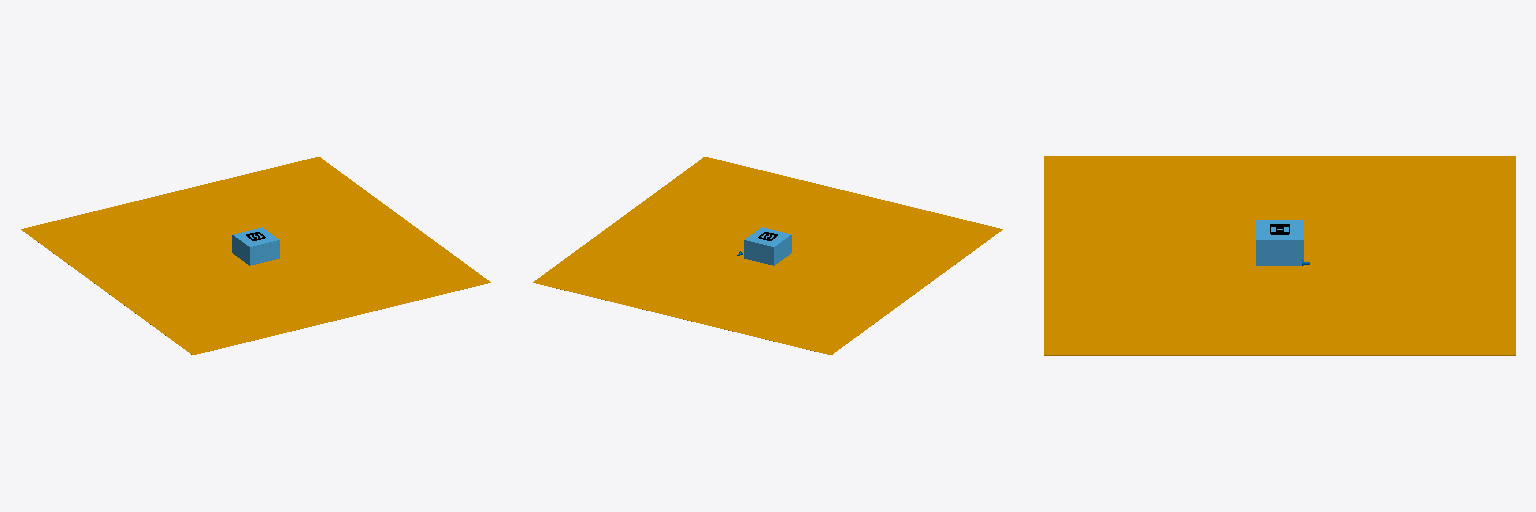
The robot description file, URDF, robot "ur5e":
<?xml version="1.0" encoding="utf-8"?>
<!-- =================================================================================== -->
<!-- |    This document was autogenerated by xacro from ur5e_robot.urdf.xacro          | -->
<!-- |    EDITING THIS FILE BY HAND IS NOT RECOMMENDED                                 | -->
<!-- =================================================================================== -->
<robot name="ur5e" xmlns:xacro="http://ros.org/wiki/xacro">

  <material name="black">
    <color rgba="0 0 0 1"/>
  </material>
  <material name="gray">
    <color rgba="0.1 0.1 0.1 1"/>
  </material>
  <material name="lightgray">
    <color rgba="0.8 0.8 0.8 1"/>
  </material>

  <link name="ground">
        <origin rpy="0.0 0.0 0.0" xyz="0 0 0.00"/>
        <visual>
            <!-- <origin rpy="0.0 0.0 0.0" xyz="0.0 0.0 0.0"/> -->
            <geometry>
                <box size="5 5 0.001"/>
            </geometry>
        </visual>
        <collision>
            <!-- <origin rpy="0.0 0.0 0.0" xyz="0.0 0.0 0.0"/> -->
            <geometry>
                <box size="5 5 0.001"/>
            </geometry>
        </collision>
   </link>

   <!-- Table -->
   <joint name="table_ground" type="fixed">
        <parent link="ground"/>
        <child link="table"/>
        <origin rpy="0 0 0" xyz="0.0 0.0 0.15"/>
   </joint>
   <link name="table">
    <visual>
      <origin xyz="0 0 0"/>
      <geometry>
        <box size="0.5 0.5 0.3"/>
      </geometry>
    </visual>
    <collision>
      <origin xyz="0 0 0"/>
      <geometry>
        <box size="0.5 0.5 0.3"/>
      </geometry>
    </collision>
    <inertial>
      <mass value="1000.0"/>
      <inertia ixx="0.01" ixy="0.00" ixz="0.00" iyy="0.01" iyz="0.0" izz="0.01"/>
      <!-- inertia is recomputed when loading asset  -->
    </inertial>
  </link>


  <link name="obs_l1">
    <visual>
      <origin rpy="0.0 0.0 0.0" xyz="0.0 0.0 0.0"/>
      <geometry>
        <box size="0.01 0.08 0.05"/>
      </geometry>
      <material name="">
        <color rgba="0 0 0 1"/>
      </material>
    </visual>
    <collision>
      <origin rpy="0.0 0.0 0.0" xyz="0.0 0.0 0.0"/>
      <geometry>
        <box size="0.01 0.08 0.05"/>
      </geometry>
    </collision>
    <inertial>
      <mass value="10000"/>
      <inertia ixx="100" ixy="0" ixz="0" iyy="100" iyz="0" izz="100"/>
    </inertial>
  </link>
  <joint name="base_to_obs_l1" type="fixed">
    <parent link="table"/>
    <child link="obs_l1"/>
    <origin xyz="-0.04 0.0 0.15"/>
  </joint>
  <link name="obs_l2">
    <visual>
      <origin rpy="0.0 0.0 0.0" xyz="0.0 0.0 0.0"/>
      <geometry>
        <box size="0.03 0.01 0.05"/>
      </geometry>
      <material name="">
        <color rgba="0 0 0 1"/>
      </material>
    </visual>
    <collision>
      <origin rpy="0.0 0.0 0.0" xyz="0.0 0.0 0.0"/>
      <geometry>
        <box size="0.03 0.01 0.05"/>
      </geometry>
    </collision>
    <inertial>
      <mass value="10000"/>
      <inertia ixx="100" ixy="0" ixz="0" iyy="100" iyz="0" izz="100"/>
    </inertial>
  </link>
  <joint name="base_to_obs_l2" type="fixed">
    <parent link="table"/>
    <child link="obs_l2"/>
    <origin xyz="-0.025 0.04 0.15"/>
  </joint>
  <link name="obs_l3">
    <visual>
      <origin rpy="0.0 0.0 0.0" xyz="0.0 0.0 0.0"/>
      <geometry>
        <box size="0.03 0.01 0.05"/>
      </geometry>
      <material name="">
        <color rgba="0 0 0 1"/>
      </material>
    </visual>
    <collision>
      <origin rpy="0.0 0.0 0.0" xyz="0.0 0.0 0.0"/>
      <geometry>
        <box size="0.03 0.01 0.05"/>
      </geometry>
    </collision>
    <inertial>
      <mass value="10000"/>
      <inertia ixx="100" ixy="0" ixz="0" iyy="100" iyz="0" izz="100"/>
    </inertial>
  </link>
  <joint name="base_to_obs_l3" type="fixed">
    <parent link="table"/>
    <child link="obs_l3"/>
    <origin xyz="-0.025 -0.04 0.15"/>
  </joint>
  <link name="obs_r1">
    <visual>
      <origin rpy="0.0 0.0 0.0" xyz="0.0 0.0 0.0"/>
      <geometry>
        <box size="0.01 0.08 0.05"/>
      </geometry>
      <material name="">
        <color rgba="0 0 0 1"/>
      </material>
    </visual>
    <collision>
      <origin rpy="0.0 0.0 0.0" xyz="0.0 0.0 0.0"/>
      <geometry>
        <box size="0.01 0.08 0.05"/>
      </geometry>
    </collision>
    <inertial>
      <mass value="10000"/>
      <inertia ixx="100" ixy="0" ixz="0" iyy="100" iyz="0" izz="100"/>
    </inertial>
  </link>
  <joint name="base_to_obs_r1" type="fixed">
    <parent link="table"/>
    <child link="obs_r1"/>
    <origin xyz="0.04 0.0 0.15"/>
  </joint>
  <link name="obs_r2">
    <visual>
      <origin rpy="0.0 0.0 0.0" xyz="0.0 0.0 0.0"/>
      <geometry>
        <box size="0.03 0.01 0.05"/>
      </geometry>
      <material name="">
        <color rgba="0 0 0 1"/>
      </material>
    </visual>
    <collision>
      <origin rpy="0.0 0.0 0.0" xyz="0.0 0.0 0.0"/>
      <geometry>
        <box size="0.03 0.01 0.05"/>
      </geometry>
    </collision>
    <inertial>
      <mass value="10000"/>
      <inertia ixx="100" ixy="0" ixz="0" iyy="100" iyz="0" izz="100"/>
    </inertial>
  </link>
  <joint name="base_to_obs_r2" type="fixed">
    <parent link="table"/>
    <child link="obs_r2"/>
    <origin xyz="0.025 0.04 0.15"/>
  </joint>
  <link name="obs_r3">
    <visual>
      <origin rpy="0.0 0.0 0.0" xyz="0.0 0.0 0.0"/>
      <geometry>
        <box size="0.03 0.01 0.05"/>
      </geometry>
      <material name="">
        <color rgba="0 0 0 1"/>
      </material>
    </visual>
    <collision>
      <origin rpy="0.0 0.0 0.0" xyz="0.0 0.0 0.0"/>
      <geometry>
        <box size="0.03 0.01 0.05"/>
      </geometry>
    </collision>
    <inertial>
      <mass value="10000"/>
      <inertia ixx="100" ixy="0" ixz="0" iyy="100" iyz="0" izz="100"/>
    </inertial>
  </link>
  <joint name="base_to_obs_r3" type="fixed">
    <parent link="table"/>
    <child link="obs_r3"/>
    <origin xyz="0.025 -0.04 0.15"/>
  </joint>
  <!--   <xacro:obs name="t1" l="1.4" b="0.1" x="0.0" y="0.7"/>-->
  <!--   <xacro:obs name="t2" l="0.1" b="0.5" x="-0.7" y="${0.7-0.25}"/>-->
  <!--   <xacro:obs name="t3" l="0.1" b="0.5" x="0.7" y="${0.7-0.25}"/>-->
  <!--   <xacro:obs name="b1" l="1.4" b="0.1" x="0.0" y="-0.7"/>-->
  <!--   <xacro:obs name="b2" l="0.1" b="0.5" x="-0.7" y="${-0.7+0.25}"/>-->
  <!--   <xacro:obs name="b3" l="0.1" b="0.5" x="0.7" y="${-0.7+0.25}"/>-->
  <link name="obs_w1">
    <visual>
      <origin rpy="0.0 0.0 0.0" xyz="0.0 0.0 0.0"/>
      <geometry>
        <box size="0.2 0.01 0.05"/>
      </geometry>
      <material name="">
        <color rgba="0 0 0 1"/>
      </material>
    </visual>
    <collision>
      <origin rpy="0.0 0.0 0.0" xyz="0.0 0.0 0.0"/>
      <geometry>
        <box size="0.2 0.01 0.05"/>
      </geometry>
    </collision>
    <inertial>
      <mass value="10000"/>
      <inertia ixx="100" ixy="0" ixz="0" iyy="100" iyz="0" izz="100"/>
    </inertial>
  </link>
  <joint name="base_to_obs_w1" type="fixed">
    <parent link="table"/>
    <child link="obs_w1"/>
    <origin xyz="0 0.1 0.15"/>
  </joint>
  <link name="obs_w2">
    <visual>
      <origin rpy="0.0 0.0 0.0" xyz="0.0 0.0 0.0"/>
      <geometry>
        <box size="0.2 0.01 0.05"/>
      </geometry>
      <material name="">
        <color rgba="0 0 0 1"/>
      </material>
    </visual>
    <collision>
      <origin rpy="0.0 0.0 0.0" xyz="0.0 0.0 0.0"/>
      <geometry>
        <box size="0.2 0.01 0.05"/>
      </geometry>
    </collision>
    <inertial>
      <mass value="10000"/>
      <inertia ixx="100" ixy="0" ixz="0" iyy="100" iyz="0" izz="100"/>
    </inertial>
  </link>
  <joint name="base_to_obs_w2" type="fixed">
    <parent link="table"/>
    <child link="obs_w2"/>
    <origin xyz="0 -0.1 0.15"/>
  </joint>
  <link name="obs_w3">
    <visual>
      <origin rpy="0.0 0.0 0.0" xyz="0.0 0.0 0.0"/>
      <geometry>
        <box size="0.01 0.2 0.05"/>
      </geometry>
      <material name="">
        <color rgba="0 0 0 1"/>
      </material>
    </visual>
    <collision>
      <origin rpy="0.0 0.0 0.0" xyz="0.0 0.0 0.0"/>
      <geometry>
        <box size="0.01 0.2 0.05"/>
      </geometry>
    </collision>
    <inertial>
      <mass value="10000"/>
      <inertia ixx="100" ixy="0" ixz="0" iyy="100" iyz="0" izz="100"/>
    </inertial>
  </link>
  <joint name="base_to_obs_w3" type="fixed">
    <parent link="table"/>
    <child link="obs_w3"/>
    <origin xyz="-0.1 0.0 0.15"/>
  </joint>
  <link name="obs_w4">
    <visual>
      <origin rpy="0.0 0.0 0.0" xyz="0.0 0.0 0.0"/>
      <geometry>
        <box size="0.01 0.2 0.05"/>
      </geometry>
      <material name="">
        <color rgba="0 0 0 1"/>
      </material>
    </visual>
    <collision>
      <origin rpy="0.0 0.0 0.0" xyz="0.0 0.0 0.0"/>
      <geometry>
        <box size="0.01 0.2 0.05"/>
      </geometry>
    </collision>
    <inertial>
      <mass value="10000"/>
      <inertia ixx="100" ixy="0" ixz="0" iyy="100" iyz="0" izz="100"/>
    </inertial>
  </link>
  <joint name="base_to_obs_w4" type="fixed">
    <parent link="table"/>
    <child link="obs_w4"/>
    <origin xyz="0.1 0.0 0.15"/>
  </joint>


  <!-- Base Link -->
  <joint name="base_link_ground" type="fixed">
        <parent link="ground"/>
        <child link="base_link"/>
        <origin rpy="0 0 0" xyz="-0.5 0.0 0"/>
  </joint>
  <link name="base_link">
    <visual>
      <geometry>
        <mesh filename="package://robot/urdf/meshes/ur5e/visual/base.dae"/>
      </geometry>
      <material name="LightGrey">
        <color rgba="0.7 0.7 0.7 1.0"/>
      </material>
    </visual>
    <collision>
      <geometry>
        <mesh filename="package://robot/urdf/meshes/ur5e/collision/base.stl" scale="1.0 1.0 1.0"/>
      </geometry>
    </collision>
    <inertial>
      <mass value="4.0"/>
      <origin rpy="0 0 0" xyz="0.0 0.0 0.0"/>
      <inertia ixx="0.00443333156" ixy="0.0" ixz="0.0" iyy="0.00443333156" iyz="0.0" izz="0.0072"/>
    </inertial>
  </link>
  <joint name="shoulder_pan_joint" type="revolute">
    <parent link="base_link"/>
    <child link="shoulder_link"/>
    <origin rpy="0.0 0.0 0.0" xyz="0.0 0.0 0.163"/>
    <axis xyz="0 0 1"/>
    <limit effort="150.0" lower="-6.28318530718" upper="6.28318530718" velocity="3.14"/>
    <dynamics damping="0.0" friction="0.0"/>
  </joint>
  <link name="shoulder_link">
    <visual>
      <geometry>
        <mesh filename="package://robot/urdf/meshes/ur5e/visual/shoulder.dae"/>
      </geometry>
      <material name="LightGrey">
        <color rgba="0.7 0.7 0.7 1.0"/>
      </material>
    </visual>
    <collision>
      <geometry>
        <mesh filename="package://robot/urdf/meshes/ur5e/collision/shoulder.stl" scale="1.0 1.0 1.0"/>
      </geometry>
    </collision>
    <inertial>
      <mass value="3.7"/>
      <origin rpy="0 0 0" xyz="0.0 0.0 0.0"/>
      <inertia ixx="0.010267495893" ixy="0.0" ixz="0.0" iyy="0.010267495893" iyz="0.0" izz="0.00666"/>
    </inertial>
  </link>
  <joint name="shoulder_lift_joint" type="revolute">
    <parent link="shoulder_link"/>
    <child link="upper_arm_link"/>
    <origin rpy="0.0 1.57079632679 0.0" xyz="0.0 0.138 0.0"/>
    <axis xyz="0 1 0"/>
    <limit effort="150.0" lower="-6.28318530718" upper="6.28318530718" velocity="3.14"/>
    <dynamics damping="0.0" friction="0.0"/>
  </joint>
  <link name="upper_arm_link">
    <visual>
      <geometry>
        <mesh filename="package://robot/urdf/meshes/ur5e/visual/upperarm.dae"/>
      </geometry>
      <material name="LightGrey">
        <color rgba="0.7 0.7 0.7 1.0"/>
      </material>
    </visual>
    <collision>
      <geometry>
        <mesh filename="package://robot/urdf/meshes/ur5e/collision/upperarm.stl" scale="1.0 1.0 1.0"/>
      </geometry>
    </collision>
    <inertial>
      <mass value="8.393"/>
      <origin rpy="0 0 0" xyz="0.0 0.0 0.2125"/>
      <inertia ixx="0.133885781862" ixy="0.0" ixz="0.0" iyy="0.133885781862" iyz="0.0" izz="0.0151074"/>
    </inertial>
  </link>
  <joint name="elbow_joint" type="revolute">
    <parent link="upper_arm_link"/>
    <child link="forearm_link"/>
    <origin rpy="0.0 0.0 0.0" xyz="0.0 -0.131 0.425"/>
    <axis xyz="0 1 0"/>
    <limit effort="150.0" lower="-3.14159265359" upper="3.14159265359" velocity="3.14"/>
    <dynamics damping="0.0" friction="0.0"/>
  </joint>
  <link name="forearm_link">
    <visual>
      <geometry>
        <mesh filename="package://robot/urdf/meshes/ur5e/visual/forearm.dae"/>
      </geometry>
      <material name="LightGrey">
        <color rgba="0.7 0.7 0.7 1.0"/>
      </material>
    </visual>
    <collision>
      <geometry>
        <mesh filename="package://robot/urdf/meshes/ur5e/collision/forearm.stl" scale="1.0 1.0 1.0"/>
      </geometry>
    </collision>
    <inertial>
      <mass value="2.275"/>
      <origin rpy="0 0 0" xyz="0.0 0.0 0.196"/>
      <inertia ixx="0.0311796208615" ixy="0.0" ixz="0.0" iyy="0.0311796208615" iyz="0.0" izz="0.004095"/>
    </inertial>
  </link>
  <joint name="wrist_1_joint" type="revolute">
    <parent link="forearm_link"/>
    <child link="wrist_1_link"/>
    <origin rpy="0.0 1.57079632679 0.0" xyz="0.0 0.0 0.392"/>
    <axis xyz="0 1 0"/>
    <limit effort="28.0" lower="-6.28318530718" upper="6.28318530718" velocity="6.28"/>
    <dynamics damping="0.0" friction="0.0"/>
  </joint>
  <link name="wrist_1_link">
    <visual>
      <geometry>
        <mesh filename="package://robot/urdf/meshes/ur5e/visual/wrist1.dae"/>
      </geometry>
      <material name="LightGrey">
        <color rgba="0.7 0.7 0.7 1.0"/>
      </material>
    </visual>
    <collision>
      <geometry>
        <mesh filename="package://robot/urdf/meshes/ur5e/collision/wrist1.stl" scale="1.0 1.0 1.0"/>
      </geometry>
    </collision>
    <inertial>
      <mass value="1.219"/>
      <origin rpy="0 0 0" xyz="0.0 0.127 0.0"/>
      <inertia ixx="0.00255989897604" ixy="0.0" ixz="0.0" iyy="0.00255989897604" iyz="0.0" izz="0.0021942"/>
    </inertial>
  </link>
  <joint name="wrist_2_joint" type="revolute">
    <parent link="wrist_1_link"/>
    <child link="wrist_2_link"/>
    <origin rpy="0.0 0.0 0.0" xyz="0.0 0.127 0.0"/>
    <axis xyz="0 0 1"/>
    <limit effort="28.0" lower="-6.28318530718" upper="6.28318530718" velocity="6.28"/>
    <dynamics damping="0.0" friction="0.0"/>
  </joint>
  <link name="wrist_2_link">
    <visual>
      <geometry>
        <mesh filename="package://robot/urdf/meshes/ur5e/visual/wrist2.dae"/>
      </geometry>
      <material name="LightGrey">
        <color rgba="0.7 0.7 0.7 1.0"/>
      </material>
    </visual>
    <collision>
      <geometry>
        <mesh filename="package://robot/urdf/meshes/ur5e/collision/wrist2.stl" scale="1.0 1.0 1.0"/>
      </geometry>
    </collision>
    <inertial>
      <mass value="1.219"/>
      <origin rpy="0 0 0" xyz="0.0 0.0 0.1"/>
      <inertia ixx="0.00255989897604" ixy="0.0" ixz="0.0" iyy="0.00255989897604" iyz="0.0" izz="0.0021942"/>
    </inertial>
  </link>
  <joint name="wrist_3_joint" type="revolute">
    <parent link="wrist_2_link"/>
    <child link="wrist_3_link"/>
    <origin rpy="0.0 0.0 0.0" xyz="0.0 0.0 0.1"/>
    <axis xyz="0 1 0"/>
    <limit effort="28.0" lower="-6.28318530718" upper="6.28318530718" velocity="6.28"/>
    <dynamics damping="0.0" friction="0.0"/>
  </joint>
  <link name="wrist_3_link">
    <visual>
      <geometry>
        <mesh filename="package://robot/urdf/meshes/ur5e/visual/wrist3.dae"/>
      </geometry>
      <material name="LightGrey">
        <color rgba="0.7 0.7 0.7 1.0"/>
      </material>
    </visual>
    <collision>
      <geometry>
        <mesh filename="package://robot/urdf/meshes/ur5e/collision/wrist3.stl" scale="1.0 1.0 1.0"/>
      </geometry>
    </collision>
    <inertial>
      <mass value="0.1879"/>
      <origin rpy="1.57079632679 0 0" xyz="0.0 0.0771 0.0"/>
      <inertia ixx="9.89041005217e-05" ixy="0.0" ixz="0.0" iyy="9.89041005217e-05" iyz="0.0" izz="0.0001321171875"/>
    </inertial>
  </link>
  <joint name="ee_fixed_joint" type="fixed">
    <parent link="wrist_3_link"/>
    <child link="ee_link"/>
    <origin rpy="0.0 0.0 1.57079632679" xyz="0.0 0.1 0.0"/>
  </joint>
  <link name="ee_link">
    <collision>
      <geometry>
        <box size="0.01 0.01 0.01"/>
      </geometry>
      <origin rpy="0 0 0" xyz="-0.01 0 0"/>
    </collision>
  </link>

<!-- Probe -->
  <link name="probe_link">
    <visual>
      <origin xyz="0 0 0" rpy="0 0 0" />
      <geometry>
        <mesh filename="package://robot/urdf/meshes/probe/ATI_mount_-_Part_1.dae" scale="0.001 0.001 0.001"/>
      </geometry>
    </visual>
    <collision>
      <origin xyz="0 0 0" rpy="0 0 0" />
      <geometry>
        <mesh filename="package://robot/urdf/meshes/probe/ATI_mount_-_Part_1.stl" scale="0.001 0.001 0.001"/>
      </geometry>
    </collision>
  </link>
  <joint name="probe_joint" type="fixed">
    <origin xyz="0 0 0" rpy="0.0 0.0 1.57079632679" />
    <parent link="ee_link" />
    <child link="probe_link" />
  </joint>


</robot>

--- Render facts (derived) ---
Views: 3 orthographic renders of the robot side by side, from view 1: azimuth 30°, elevation 25°; view 2: azimuth 150°, elevation 25°; view 3: azimuth 270°, elevation 25°.
Model ur5e with 21 links and 20 joints (6 revolute, 14 fixed), rooted at ground, posed every joint at zero.
Links seen in each view (by area): view 1: ground, table; view 2: ground, table; view 3: ground, table.
Boxes of the visible links, box(x1,y1,x2,y2) form: ground: box(21, 157, 490, 354); table: box(232, 227, 279, 265); ground: box(533, 157, 1002, 354); table: box(744, 227, 791, 265); ground: box(1044, 156, 1515, 355); table: box(1256, 220, 1303, 265).
Size in the robot's own frame: 5 by 5 by 0.3255 metres.
Meshes: 8 distinct files referenced, 1 mesh visuals loaded (1 Collada DAE); not drawn: 7 (reference not matched to a file when rendering).
